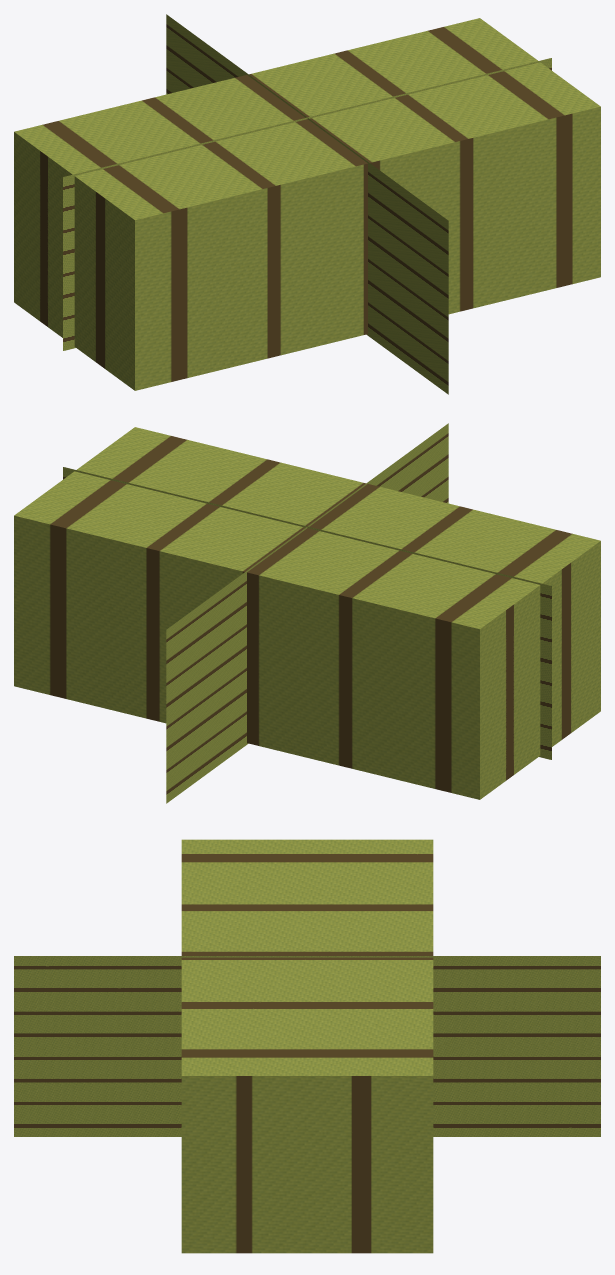
The model's file is haybale_rect_green.dae.
The picture shows the model from 3 angles, top to bottom: view 1: azimuth 30°, elevation 25°; view 2: azimuth 150°, elevation 25°; view 3: azimuth 270°, elevation 25°; orthographic projection. The views are drawn at different scales.
Parts seen in each view (by area): view 1: haybale_rect_green_a800, haybale_rect_green_a50, haybale_rect_green_a200; view 2: haybale_rect_green_a800, haybale_rect_green_a200, haybale_rect_green_a50; view 3: haybale_rect_green_a800, haybale_rect_green_a50.
Boxes of the visible parts, bbox=[...] form: haybale_rect_green_a800: bbox=[14, 18, 600, 390]; haybale_rect_green_a50: bbox=[63, 14, 551, 394]; haybale_rect_green_a200: bbox=[14, 132, 131, 332]; haybale_rect_green_a800: bbox=[14, 427, 600, 799]; haybale_rect_green_a200: bbox=[15, 629, 597, 798]; haybale_rect_green_a50: bbox=[63, 423, 551, 803]; haybale_rect_green_a800: bbox=[181, 839, 433, 1253]; haybale_rect_green_a50: bbox=[14, 956, 600, 1136].
Bounding box in the file's own units: 1.05 × 1.05 × 0.357.
2 materials, 1 textured.
